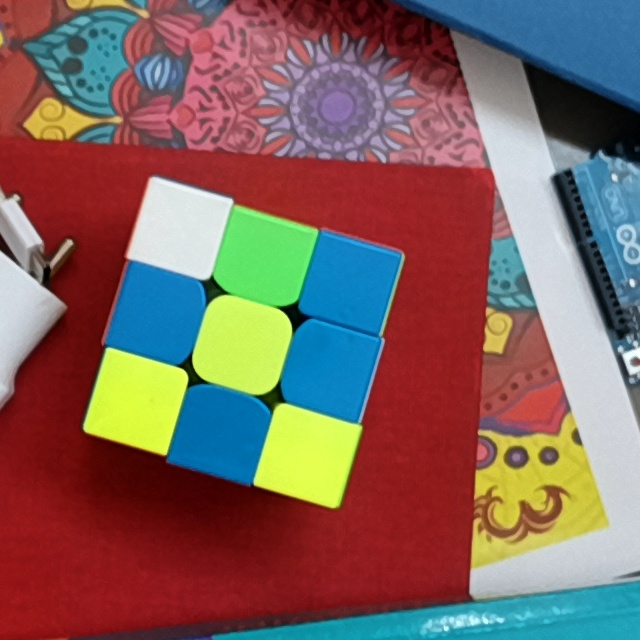tile: (210, 310, 277, 378), (125, 279, 191, 345), (315, 251, 382, 314), (186, 398, 252, 461), (275, 423, 340, 486), (106, 368, 169, 432), (299, 335, 361, 399), (232, 229, 297, 290), (149, 200, 212, 257)
